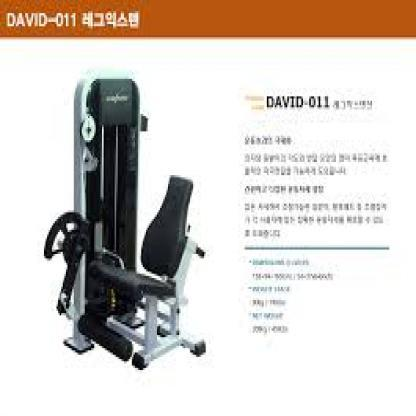leg extension: (36, 68, 223, 385)
